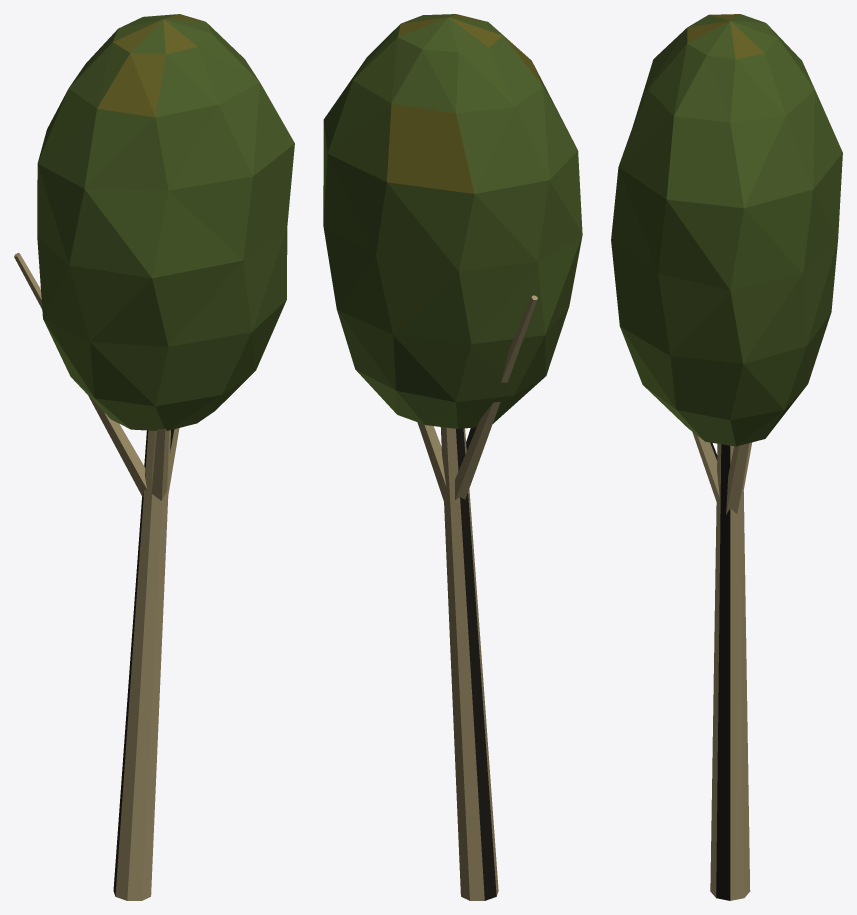
The model's file is Tree_Birch_02.fbx.
The picture shows the model from 3 angles, left to right: view 1: azimuth 30°, elevation 25°; view 2: azimuth 150°, elevation 25°; view 3: azimuth 270°, elevation 25°; orthographic projection. The views are drawn at different scales.
Parts seen in each view (by area): view 1: Tree_Birch_02_Foliage, Tree_Birch_02_Trunk; view 2: Tree_Birch_02_Foliage, Tree_Birch_02_Trunk; view 3: Tree_Birch_02_Foliage, Tree_Birch_02_Trunk.
Boxes of the visible parts, box(x1,y1,x2,y2) form: Tree_Birch_02_Foliage: box(37, 14, 294, 430); Tree_Birch_02_Trunk: box(14, 253, 179, 900); Tree_Birch_02_Foliage: box(323, 14, 582, 428); Tree_Birch_02_Trunk: box(417, 295, 537, 900); Tree_Birch_02_Foliage: box(611, 14, 842, 446); Tree_Birch_02_Trunk: box(692, 432, 752, 900).
Size of the model in its own units: 1.93 by 6.64 by 1.57.
Materials: 1 (1 with a texture image).
